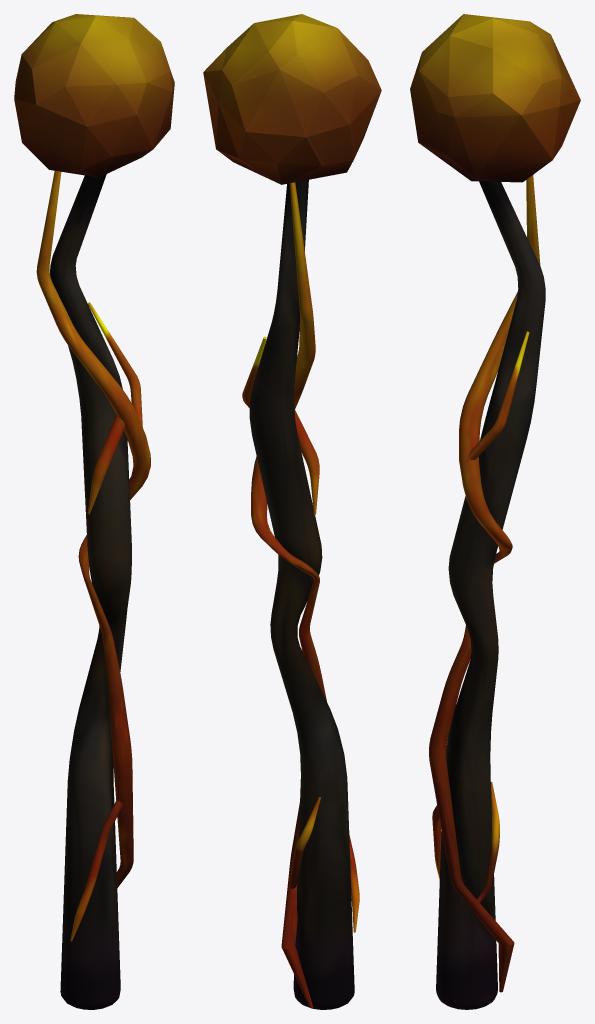
The model's file is varita.fbx.
3 views of the same model, side by side, from view 1: azimuth 30°, elevation 25°; view 2: azimuth 150°, elevation 25°; view 3: azimuth 270°, elevation 25° (orthographic). The views are drawn at different scales.
Visible parts, largest first — view 1: Staff; view 2: Staff; view 3: Staff.
Part boxes in pixels (x1,y1,x2,y2): Staff: [14, 14, 174, 1009]; Staff: [203, 14, 381, 1009]; Staff: [410, 14, 580, 1009].
Bounding box in the file's own units: 30.24 × 189 × 29.56.
1 material, 1 textured.
